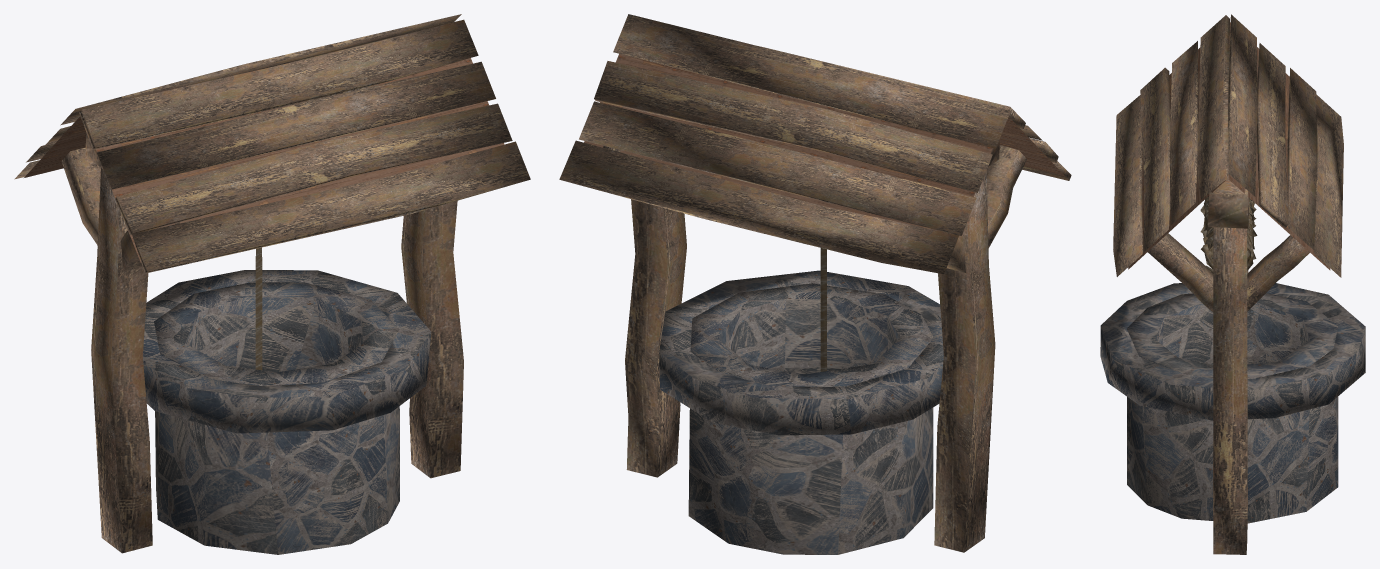
The model's file is well.fbx.
3 renders of one model, left to right at view 1: azimuth 30°, elevation 25°; view 2: azimuth 150°, elevation 25°; view 3: azimuth 270°, elevation 25°, orthographic. The views are drawn at different scales.
Parts seen in each view (by area): view 1: Well; view 2: Well; view 3: Well.
Part boxes in pixels (x1=…): Well: x1=14, y1=14, x2=530, y2=554; Well: x1=559, y1=14, x2=1071, y2=554; Well: x1=1100, y1=14, x2=1365, y2=554.
Bounding box in the file's own units: 20.69 × 22.83 × 14.22.
